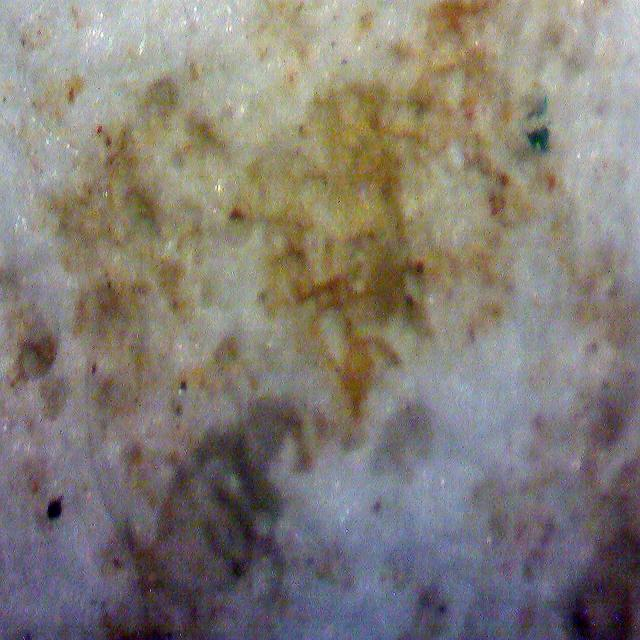microplastic: (522, 98, 551, 154)
